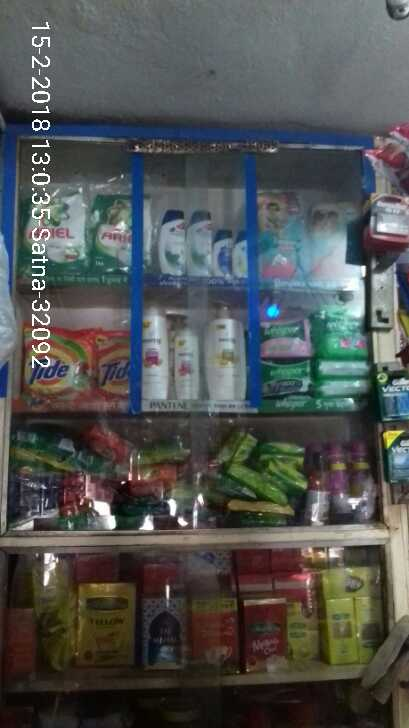beauty: (200, 304, 239, 401), (136, 302, 167, 394), (172, 324, 198, 397), (158, 208, 185, 277), (186, 210, 211, 276), (213, 225, 224, 274)
home: (93, 189, 152, 273), (99, 330, 138, 399)
pharmacy: (251, 189, 304, 278), (315, 305, 372, 360), (258, 358, 309, 400), (258, 317, 308, 358)
